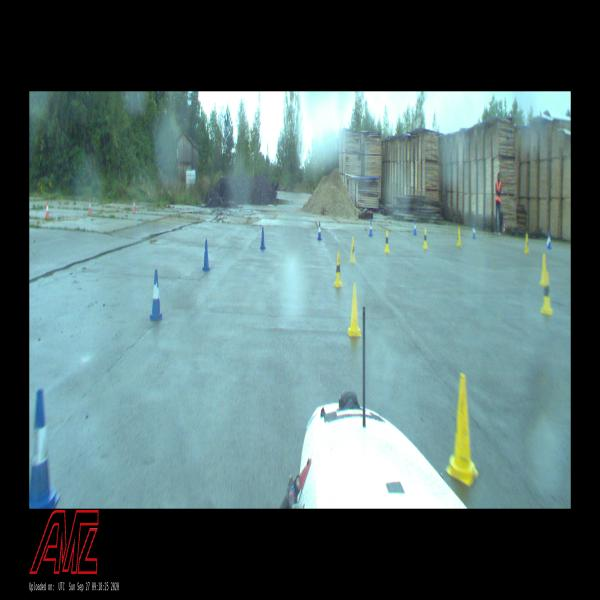blue_cone: (30, 389, 60, 509), (149, 269, 163, 321), (202, 239, 211, 270), (260, 226, 266, 249), (317, 221, 322, 240), (413, 220, 417, 235), (547, 233, 551, 248), (369, 221, 372, 236), (473, 224, 476, 239)
orange_cone: (45, 201, 49, 218), (88, 198, 92, 215), (132, 199, 136, 212)
yellow_cone: (446, 374, 478, 488), (347, 283, 362, 337), (540, 272, 553, 315), (334, 252, 344, 287), (540, 254, 547, 286), (350, 237, 356, 263), (384, 231, 389, 252), (423, 229, 428, 249), (524, 234, 529, 253), (457, 228, 462, 245)
